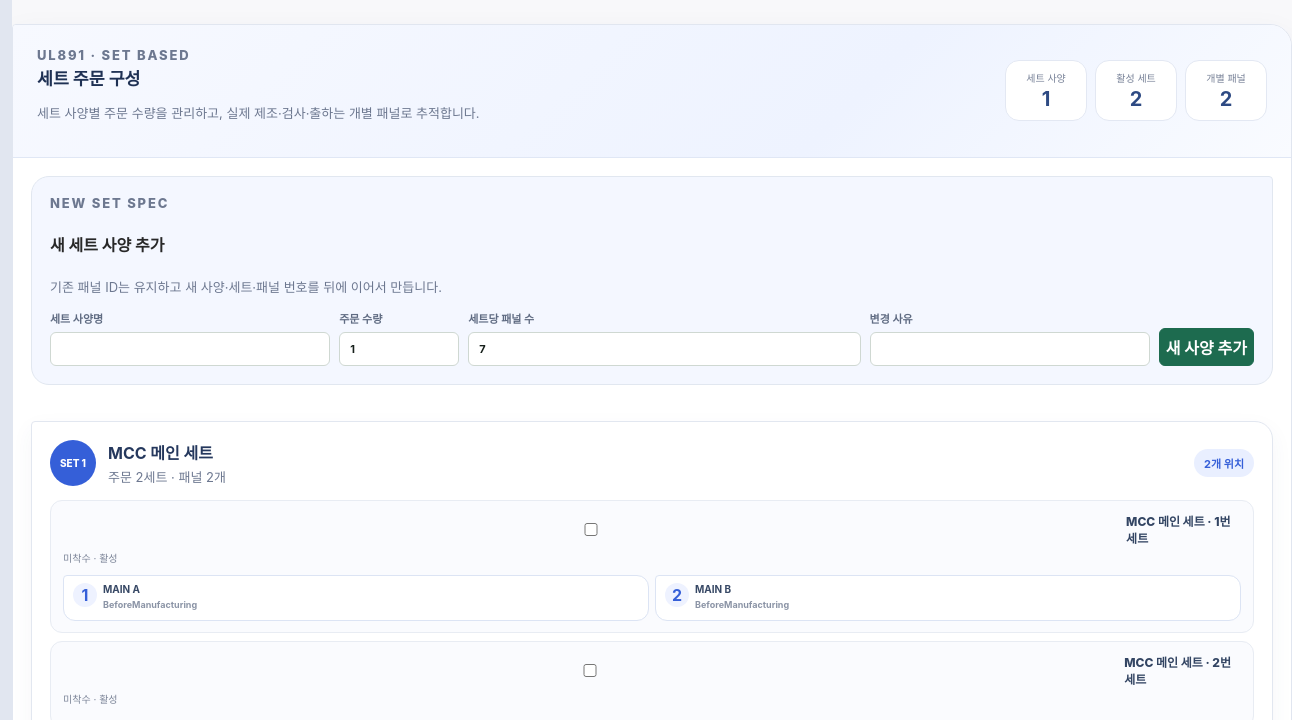
Test: Ul891SetWorkspace › adds a new set specification using only its panel count
Expected: the heading "새 세트 사양 추가" is shown, left=50, top=235, right=164, bottom=255
Type "AUX 세트" into the field labelled "세트 사양명".
click(190, 349); type("AUX 세트")  # box left=50, top=332, right=330, bottom=366
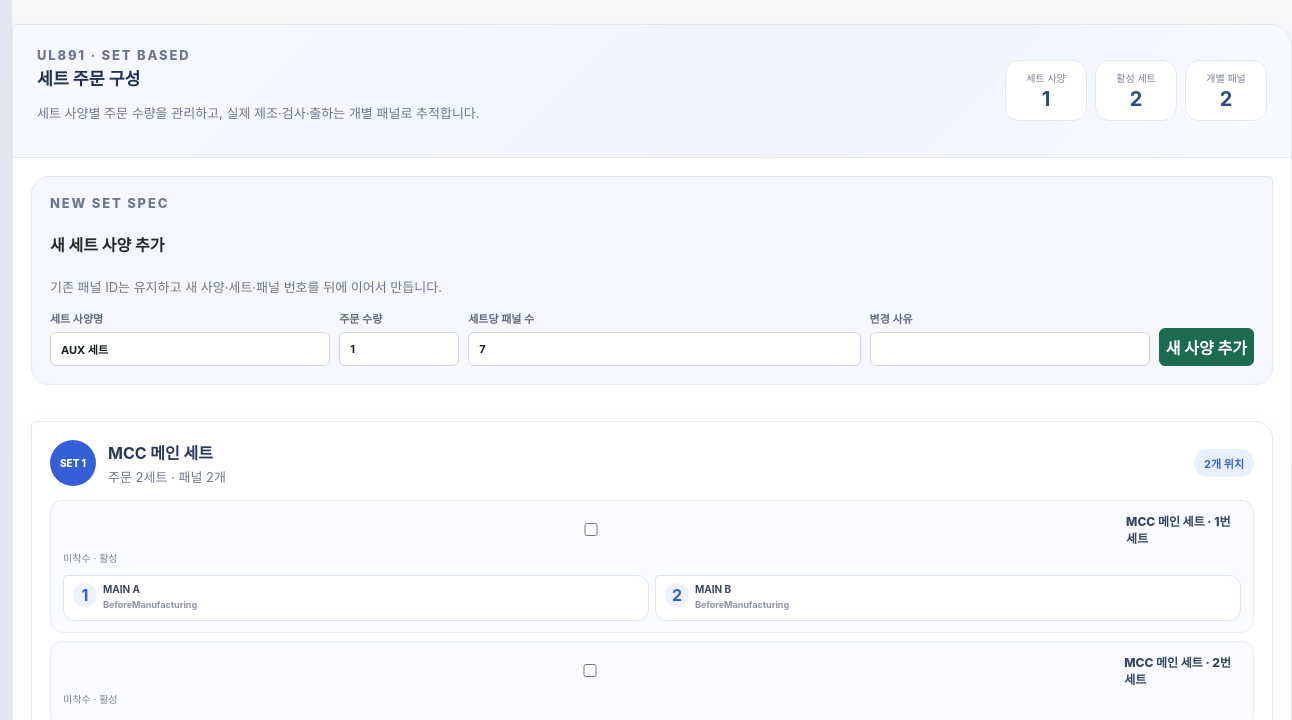
Replace the text in the number field labelled "주문 수량" with "2" at (399, 349), box left=339, top=332, right=459, bottom=366
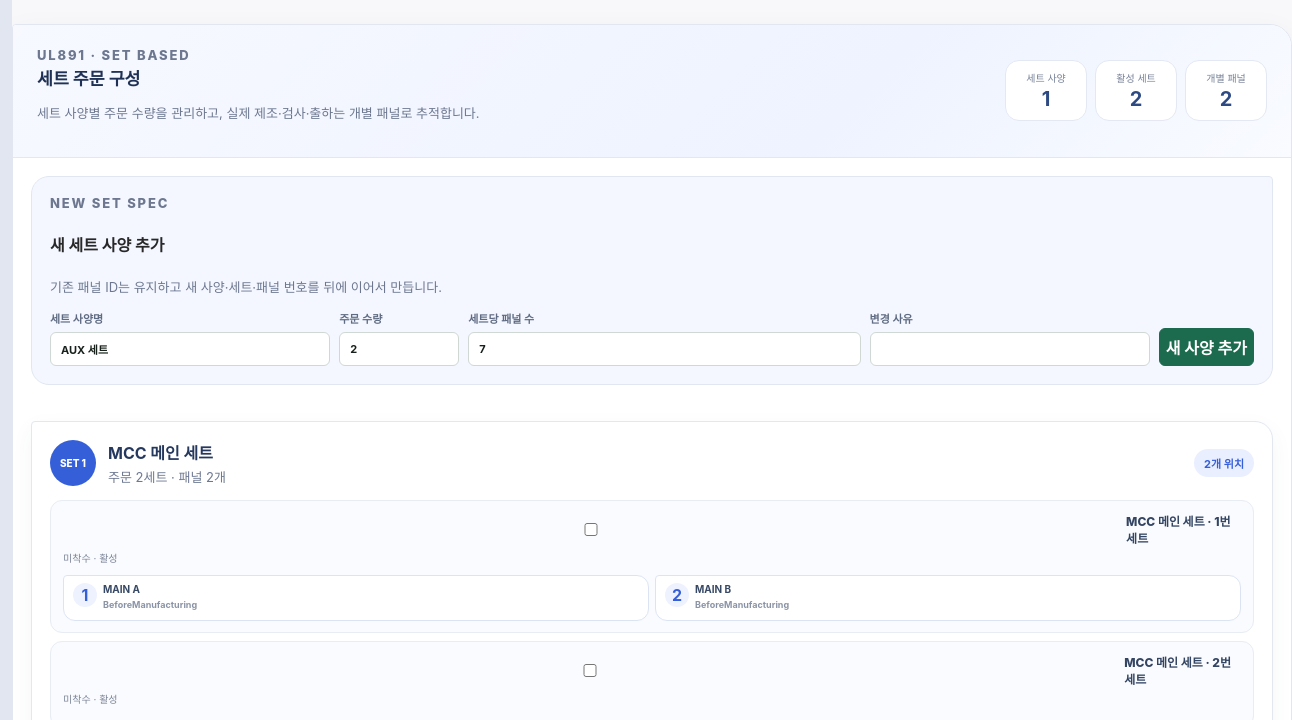
Replace the text in the number field labelled "세트당 패널 수" with "3" at (664, 349), box left=468, top=332, right=860, bottom=366
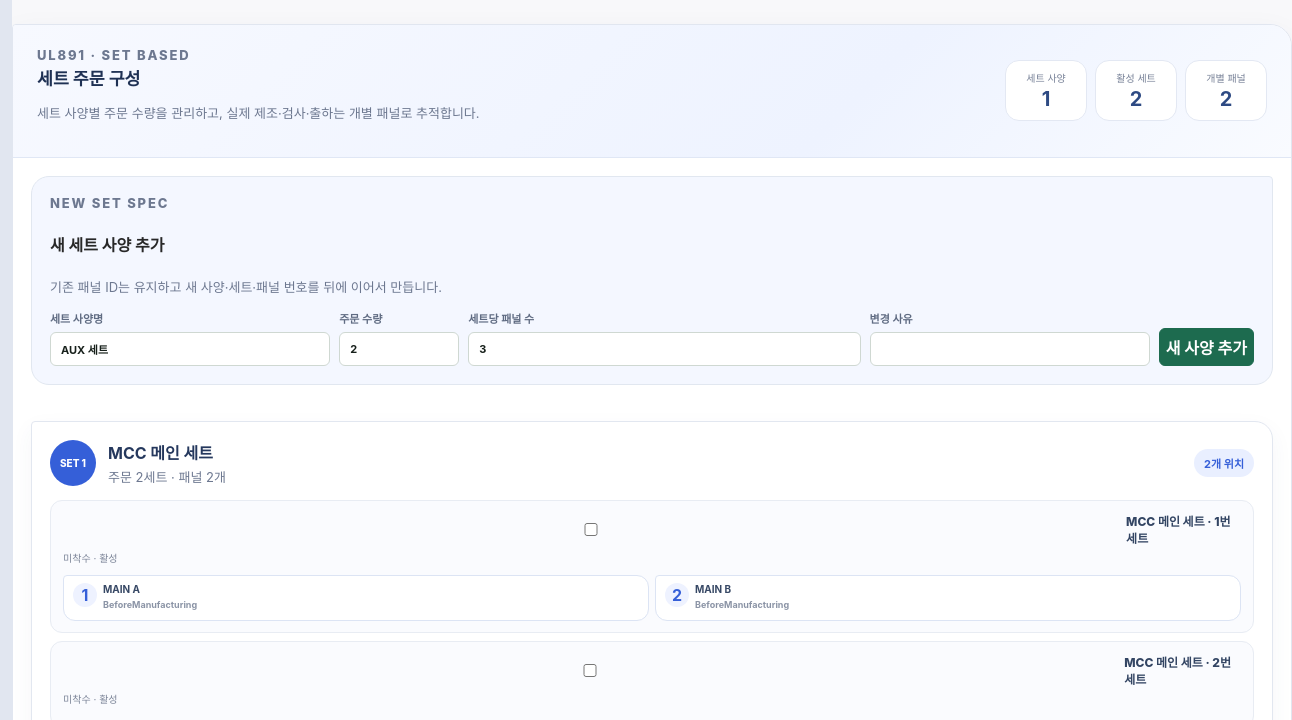
Type "고객 추가 주문" into the field labelled "변경 사유".
click(1010, 349); type("고객 추가 주문")  # box left=870, top=332, right=1150, bottom=366
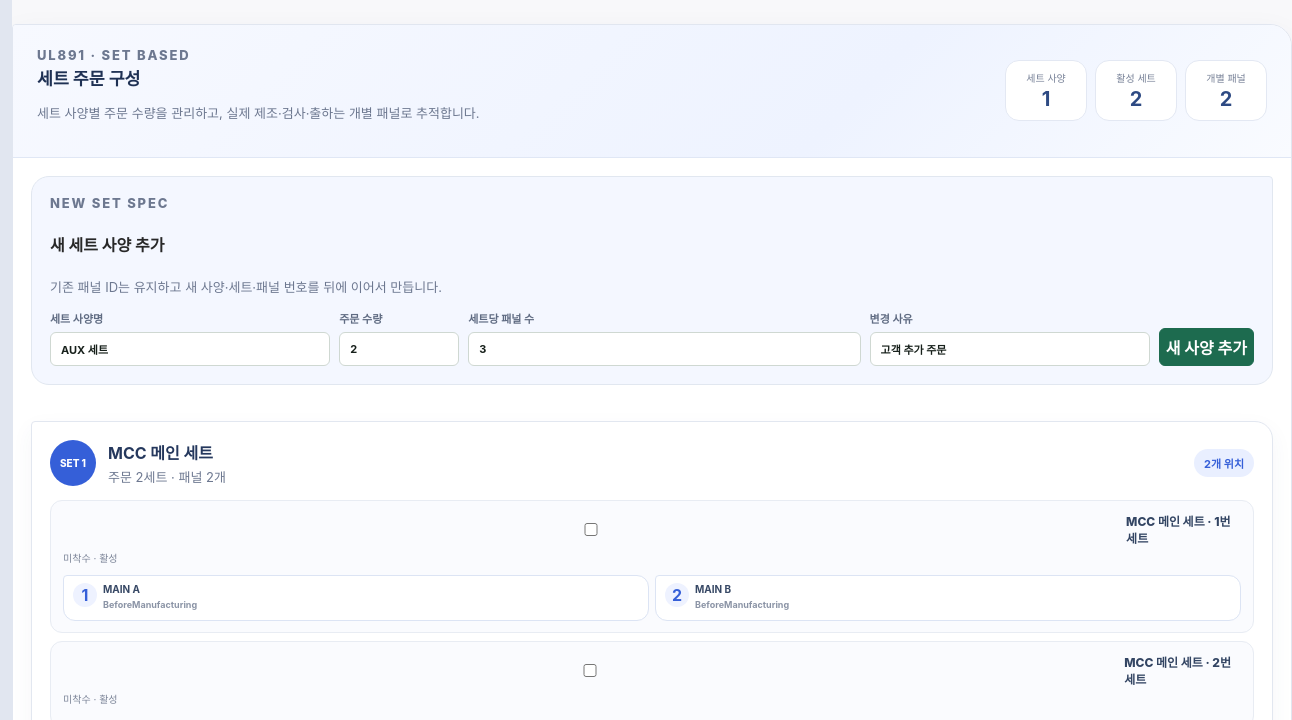
Click the button "새 사양 추가".
click(1206, 347)  # box left=1159, top=328, right=1254, bottom=366
(page scrolled)
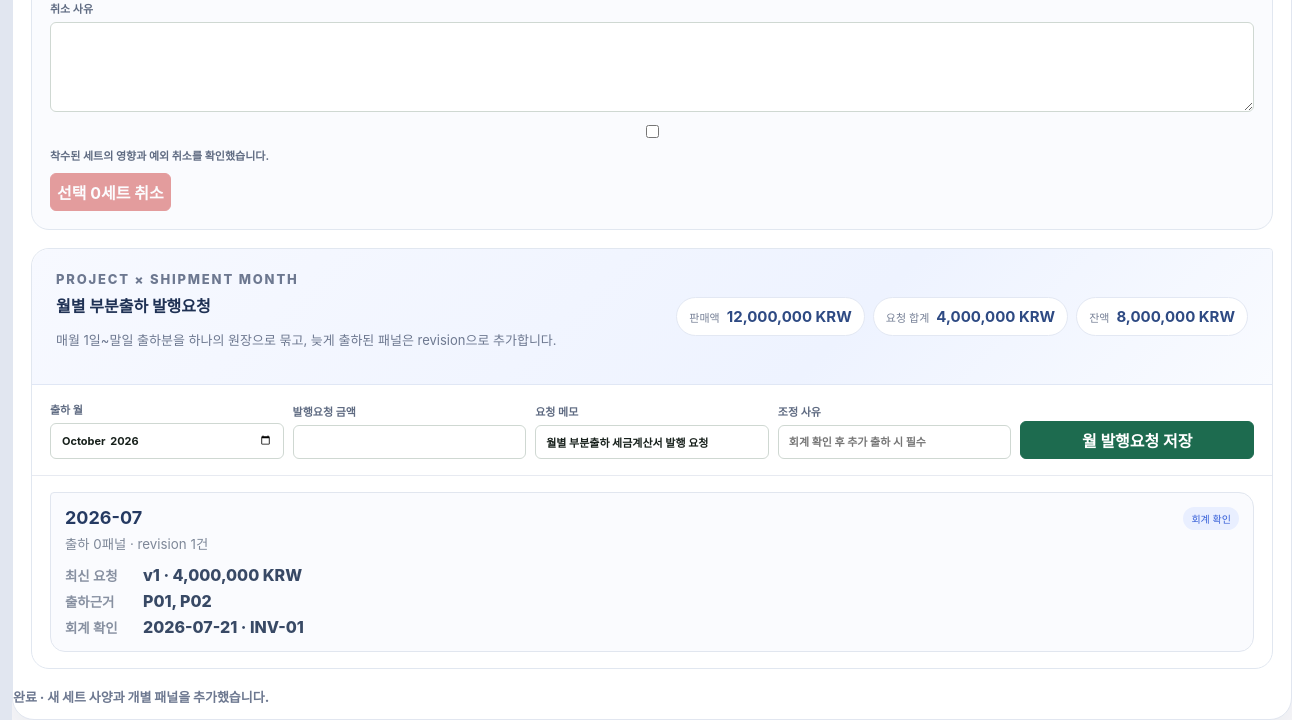
Expected: the text "완료 · 새 세트 사양과 개별 패널을 추가했습니다." is shown, left=13, top=689, right=269, bottom=705
